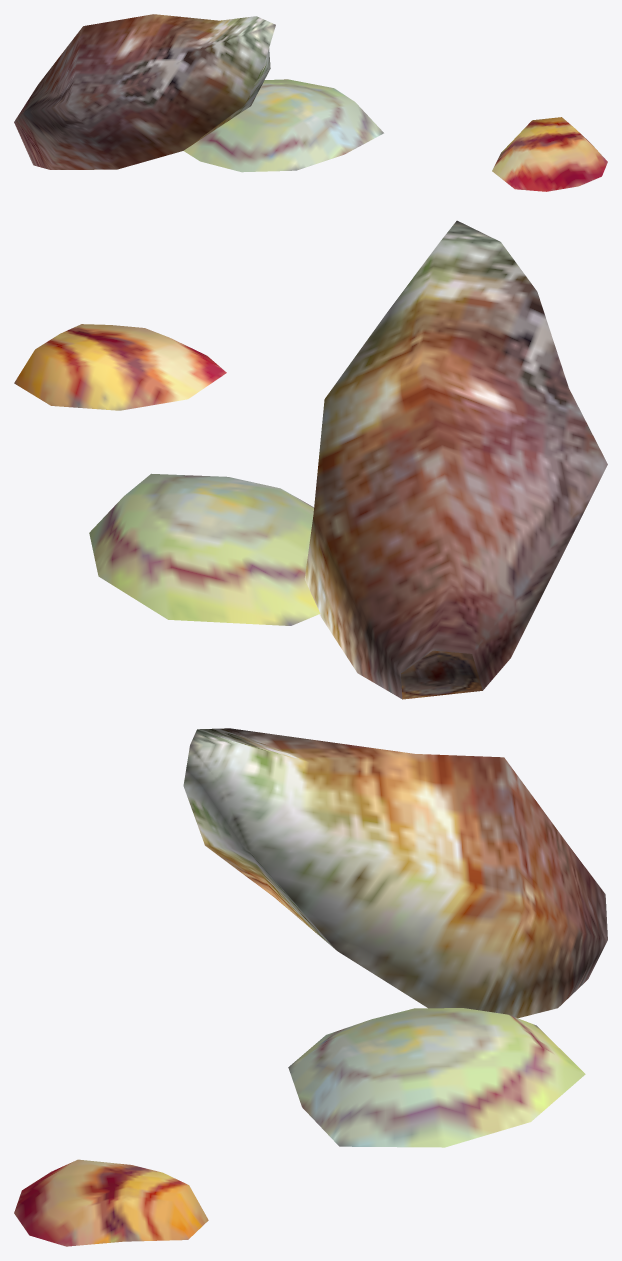
File: S_Build_Sea028.FBX
3 views of the same model, one above another, from view 1: azimuth 30°, elevation 25°; view 2: azimuth 150°, elevation 25°; view 3: azimuth 270°, elevation 25° (orthographic). The views are drawn at different scales.
Visible parts, largest first — view 1: S_Build_Sea028; view 2: S_Build_Sea028; view 3: S_Build_Sea028.
Boxes of the visible parts, x1=… form: S_Build_Sea028: x1=14, y1=14, x2=607, y2=191; S_Build_Sea028: x1=14, y1=220, x2=607, y2=699; S_Build_Sea028: x1=14, y1=728, x2=607, y2=1246.
Size of the model in its own units: 96.58 by 71.46 by 40.41.
Materials: 1 (1 with a texture image).
